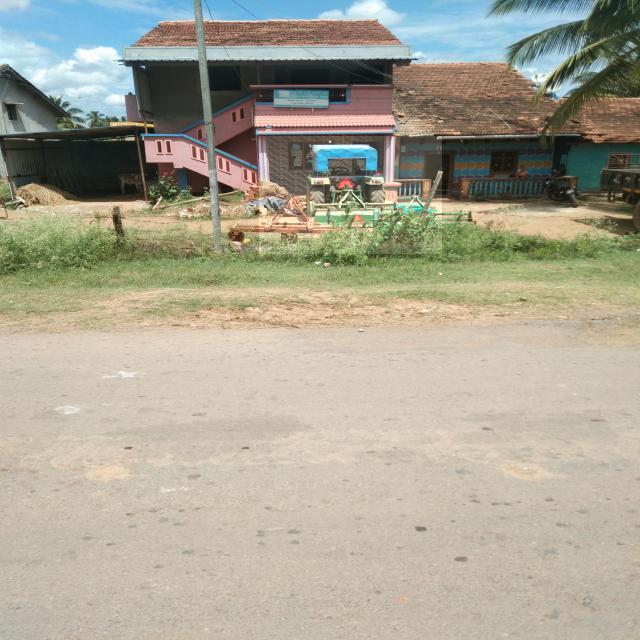Tractot: (259, 136, 442, 255)
